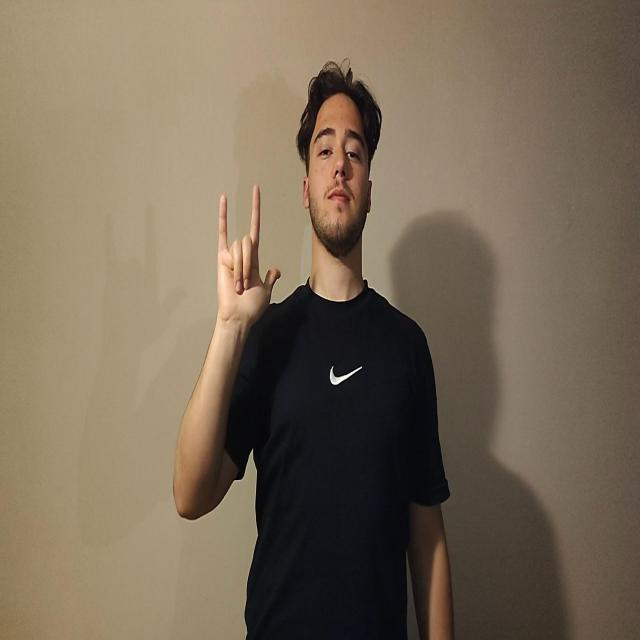iloveyou: (216, 183, 281, 337)
